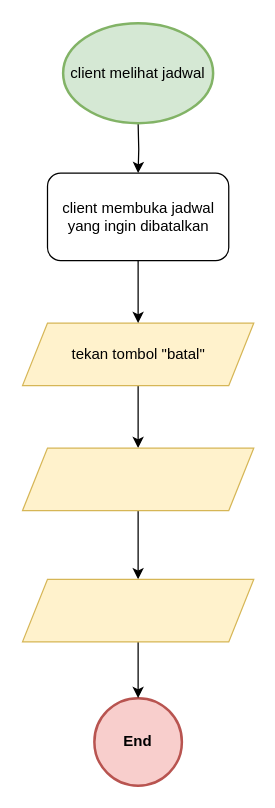
This 275x808 diagram has some shape labels left out. Each missing label, with the box of its shape:
modal untuk input alasan: (21, 447, 254, 511)
pemberitahuan aksi dan respon servernya: (21, 578, 254, 642)
